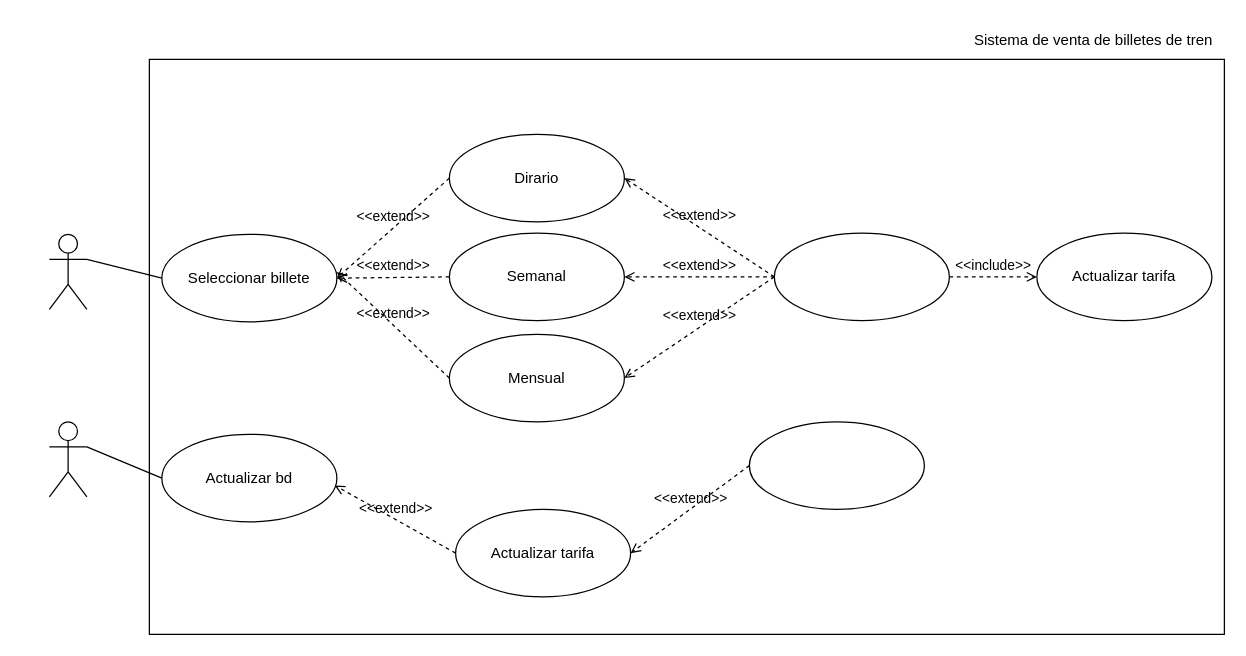
Image size: 1246x656. Some labels were removed from this diagram. Each missing label, with the box of its shape:
Agotar tiempo: (748, 421, 924, 509)
Centro ventas: (48, 421, 87, 497)
Introducir dinero: (773, 232, 949, 321)
Viajero: (48, 233, 87, 309)
